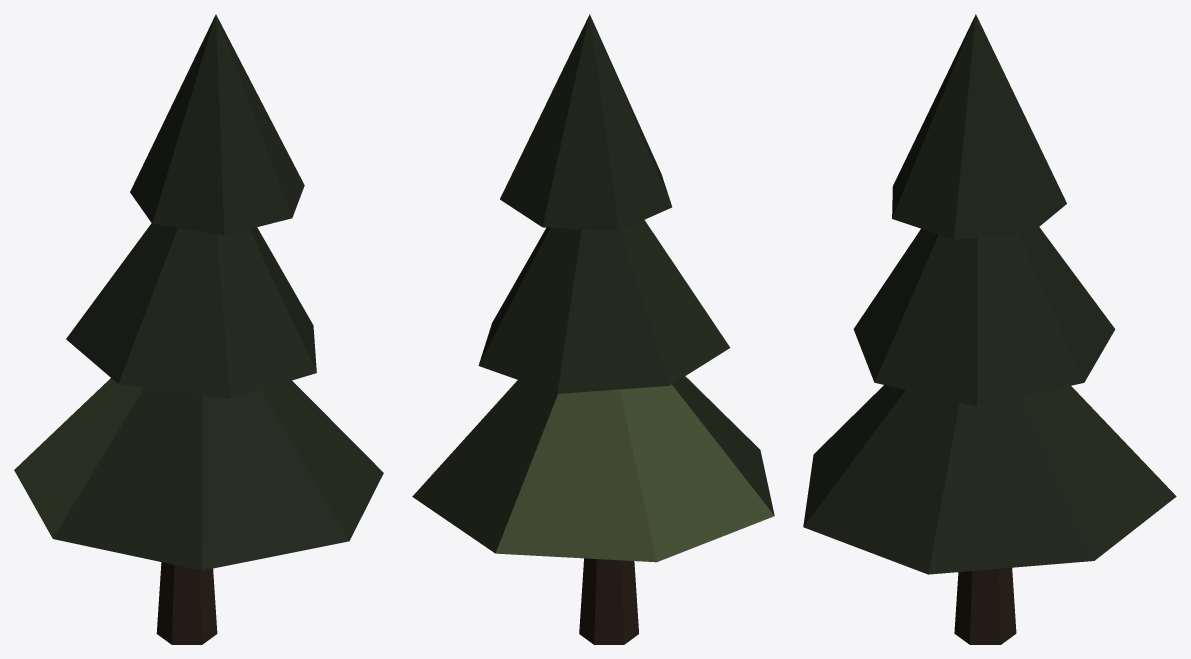
Rendered from hushwood_pine_small.glb.
3 views of the same model, side by side, from view 1: azimuth 30°, elevation 25°; view 2: azimuth 150°, elevation 25°; view 3: azimuth 270°, elevation 25° (orthographic). The views are drawn at different scales.
Visible parts, largest first — view 1: hushwood_pine_small; view 2: hushwood_pine_small; view 3: hushwood_pine_small.
Boxes of the visible parts, box(x1,y1,x2,y2) form: hushwood_pine_small: box(14, 14, 383, 644); hushwood_pine_small: box(412, 14, 774, 644); hushwood_pine_small: box(803, 14, 1176, 644).
Bounding box in the file's own units: 1.98 × 3.65 × 1.96.
